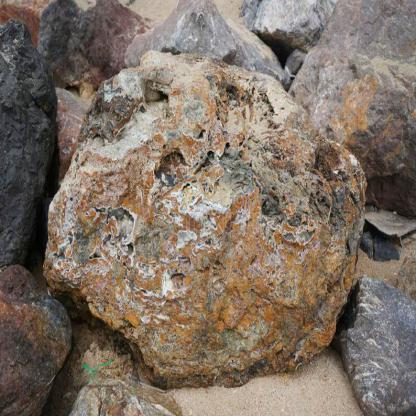Sedimentary_Limestone: (42, 47, 367, 392), (2, 253, 62, 409), (362, 260, 416, 415)
